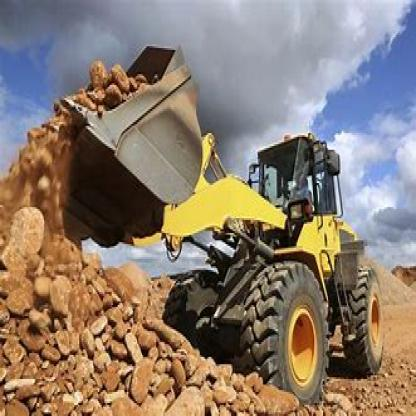bull_dozer/loader/grader: (40, 39, 390, 401)
